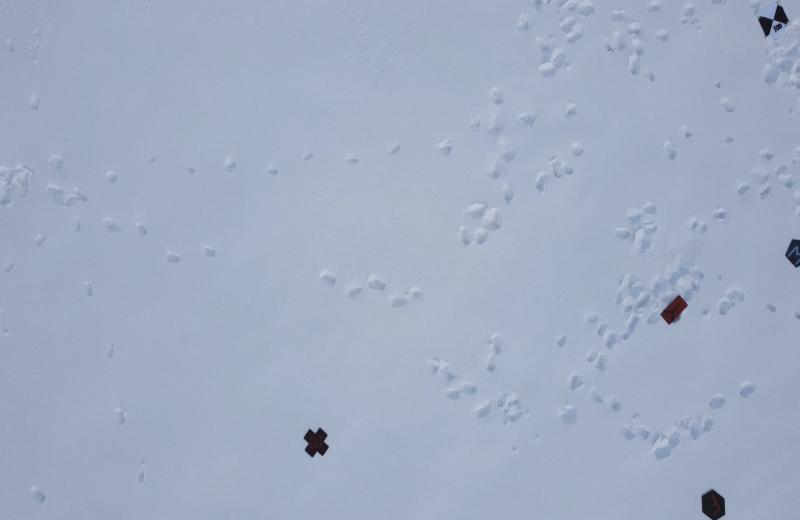Cross: (302, 426, 331, 463)
Hexagon: (697, 484, 728, 520)
Pentagon: (780, 233, 800, 272)
Rectangle: (655, 289, 691, 328)
